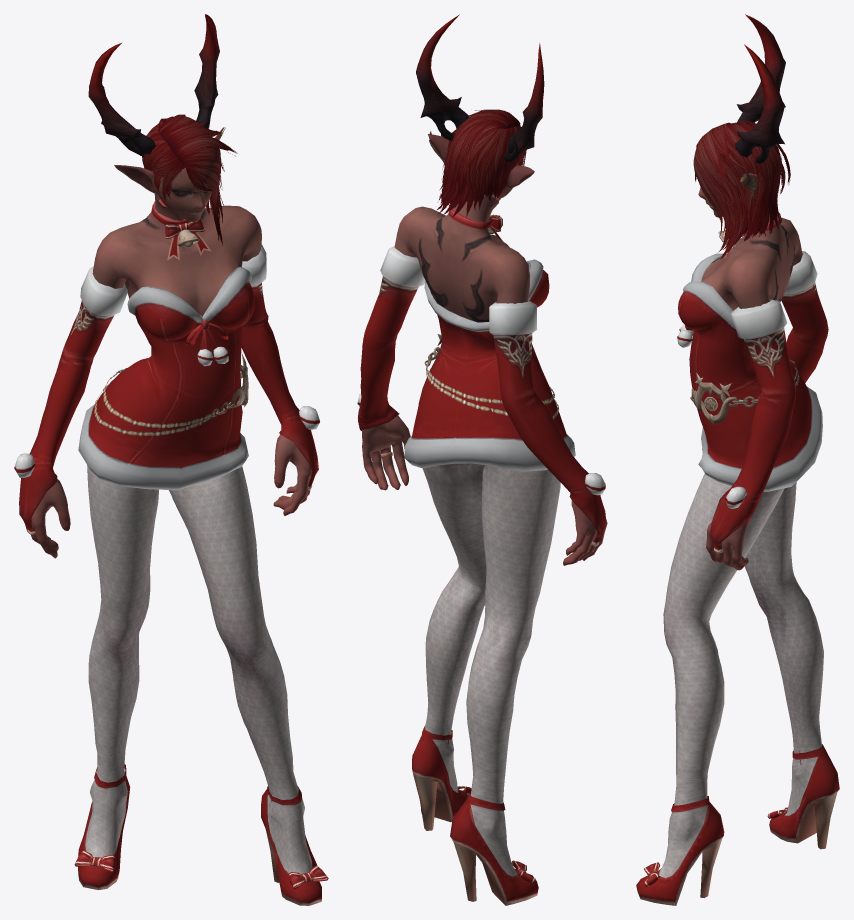
File: santa.glb
The picture shows the model from 3 angles, left to right: view 1: azimuth 30°, elevation 25°; view 2: azimuth 150°, elevation 25°; view 3: azimuth 270°, elevation 25°; orthographic projection. The views are drawn at different scales.
Visible parts, largest first — view 1: Asset3DLoader.sceneRoot; view 2: Asset3DLoader.sceneRoot; view 3: Asset3DLoader.sceneRoot.
Boxes of the visible parts, <box> form: Asset3DLoader.sceneRoot: <box>14,14,328,905</box>; Asset3DLoader.sceneRoot: <box>357,14,607,905</box>; Asset3DLoader.sceneRoot: <box>636,14,839,905</box>.
Size of the model in its own units: 14.5 by 43.16 by 9.61.
Materials: 6 (6 with a texture image).
